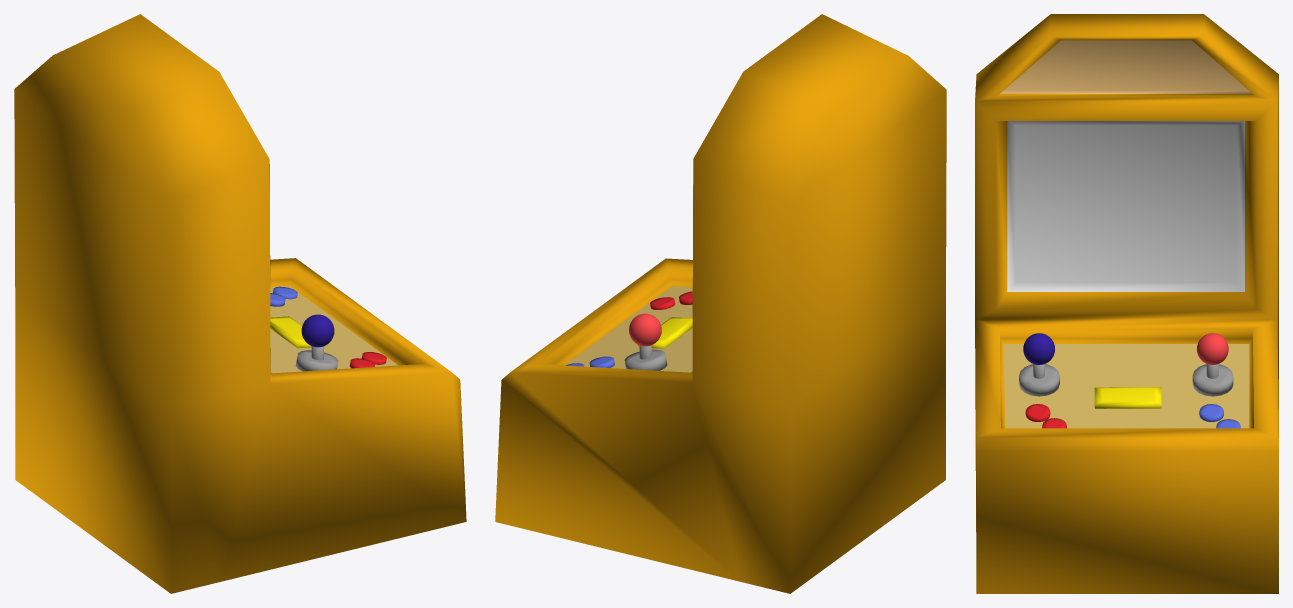
File: ArcadeMachine2.fbx
The picture shows the model from 3 angles, left to right: view 1: azimuth 30°, elevation 25°; view 2: azimuth 150°, elevation 25°; view 3: azimuth 270°, elevation 25°; orthographic projection. The views are drawn at different scales.
Visible parts, largest first — view 1: Cube; view 2: Cube; view 3: Cube.
Part boxes in pixels (x1,y1,x2,y2): Cube: [14, 14, 466, 593]; Cube: [495, 14, 946, 593]; Cube: [975, 14, 1278, 593].
Size of the model in its own units: 220 by 335 by 201.
